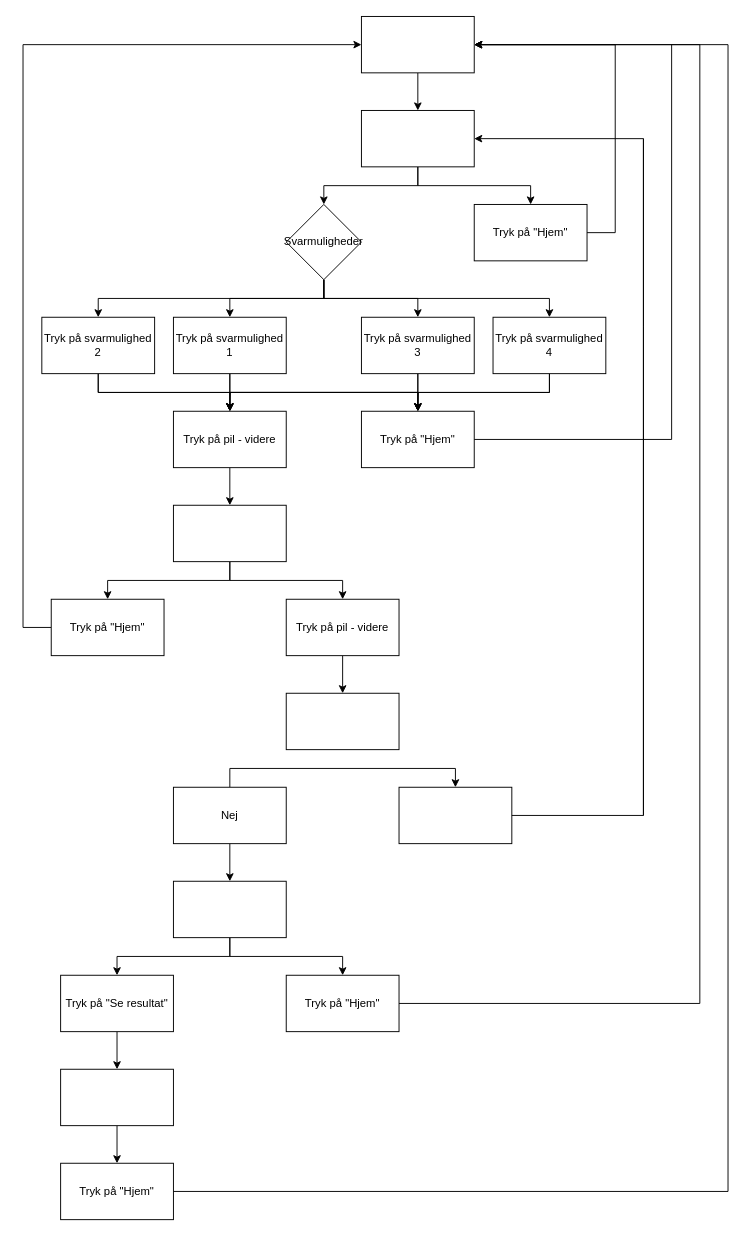
The diagram is 752 pixels wide and 1236 high, and some of its shapes have lost their labels. Each missing label, with the centre of its shape:
"Er der flere spørgsmål, som der ikke er svaret korrekt på?" belongs at [342,721].
"Ja" belongs at [455,815].
"Start quiz" belongs at [417,44].
"Tilfældigt nyt spørgsmål" belongs at [417,138].
"Vis hvilket svar, der er korrekt, og hvilket, man valgte" belongs at [229,533].
"Vis hvor stor andel af spørgsmål, der blev besvaret korrekt på første forsøg" belongs at [229,909].
"Vis spørgsmål og svar i kronologisk rækkefølge" belongs at [116,1097].
